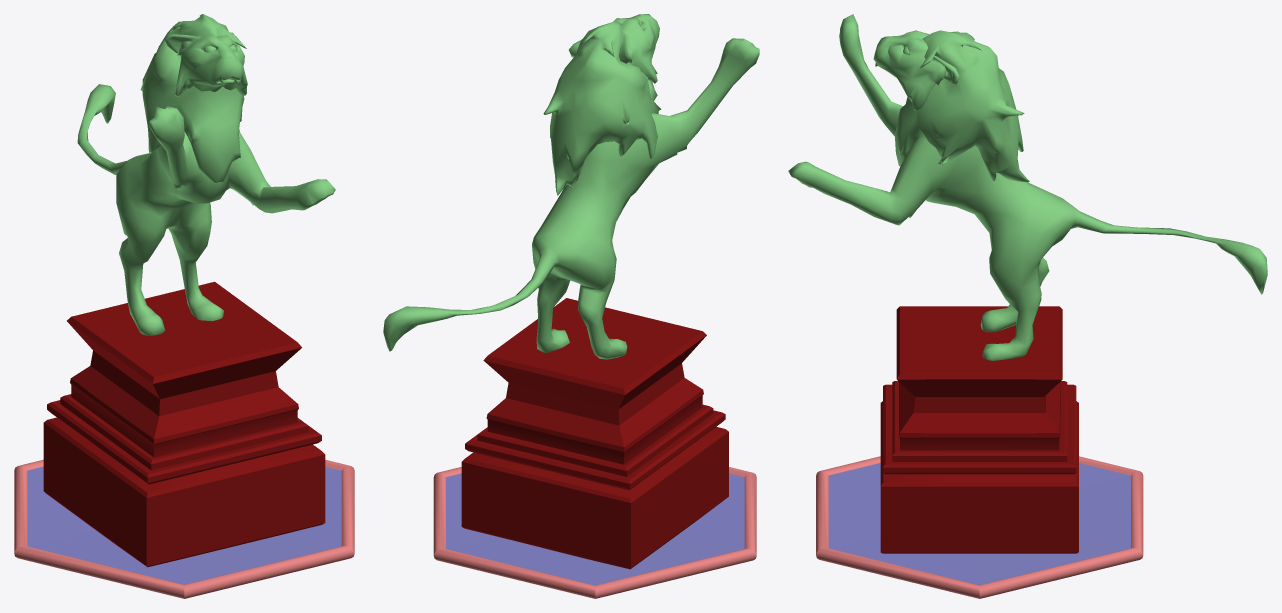
The model's file is Sculpture.fbx.
3 views of the same model, side by side, from view 1: azimuth 30°, elevation 25°; view 2: azimuth 150°, elevation 25°; view 3: azimuth 270°, elevation 25° (orthographic). The views are drawn at different scales.
Parts seen in each view (by area): view 1: Pedestal, Lion, Grid, hexagon; view 2: Pedestal, Lion, Grid, hexagon; view 3: Pedestal, Lion, Grid, hexagon.
Part boxes in pixels (x1,y1,x2,y2): Pedestal: (43, 281, 325, 567); Lion: (77, 14, 335, 335); Grid: (27, 466, 341, 584); hexagon: (14, 459, 354, 598); Pedestal: (461, 298, 728, 569); Lion: (383, 14, 759, 359); Grid: (446, 473, 744, 585); hexagon: (433, 467, 756, 598); Pedestal: (880, 306, 1078, 553); Lion: (788, 14, 1267, 360); Grid: (828, 463, 1130, 585); hexagon: (816, 456, 1143, 598).
Bounding box in the file's own units: 178 × 255 × 226.
